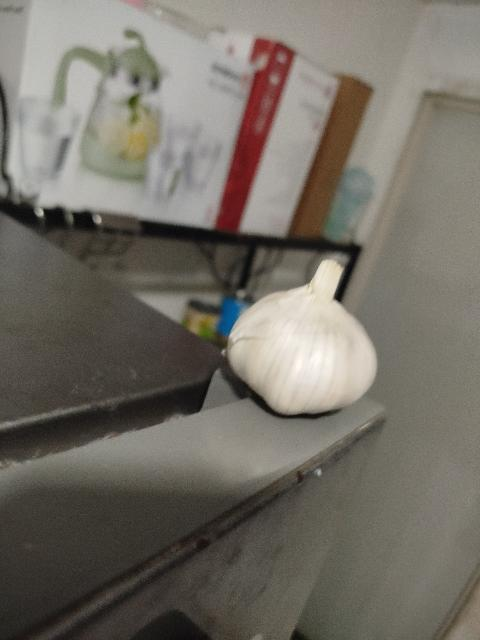garlic: (222, 259, 378, 417)
